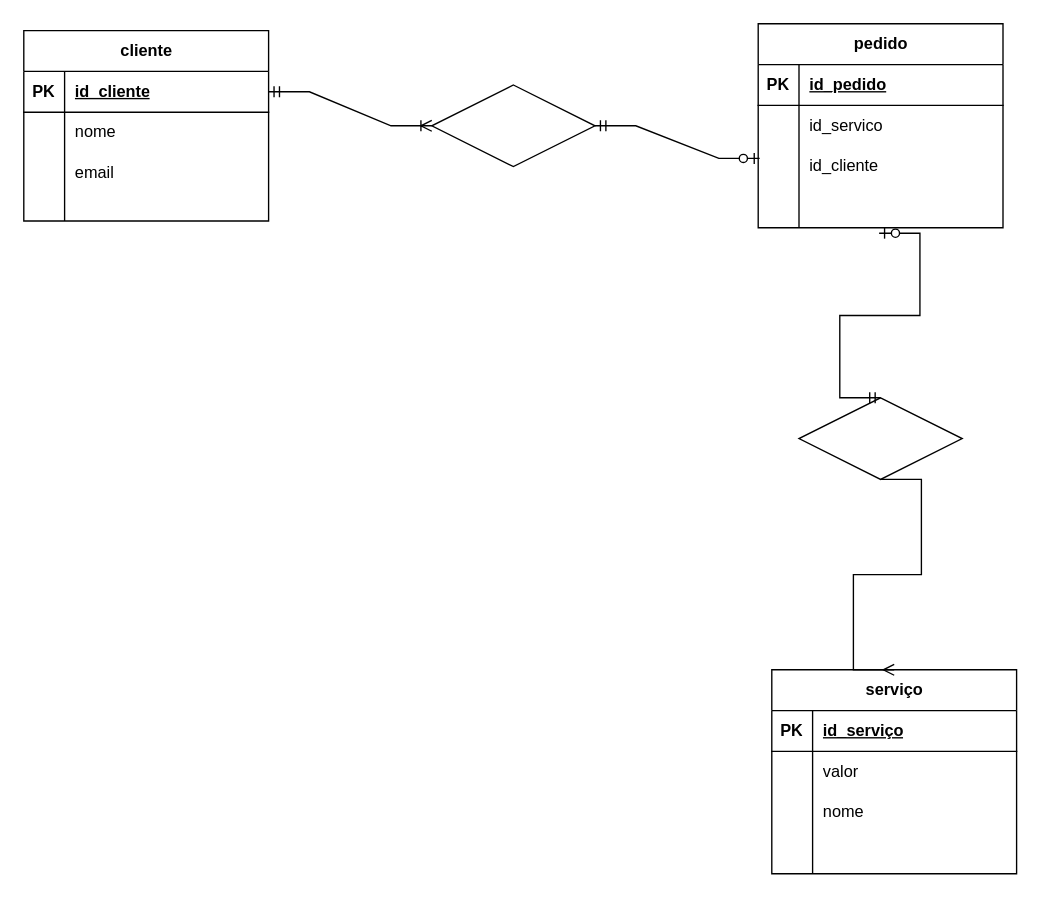
The diagram is 1040 pixels wide and 898 high, and some of its shapes have lost their labels. Each missing label, with the centre of its shape:
"faz" goes at point (512, 125).
"tem" goes at point (880, 437).
